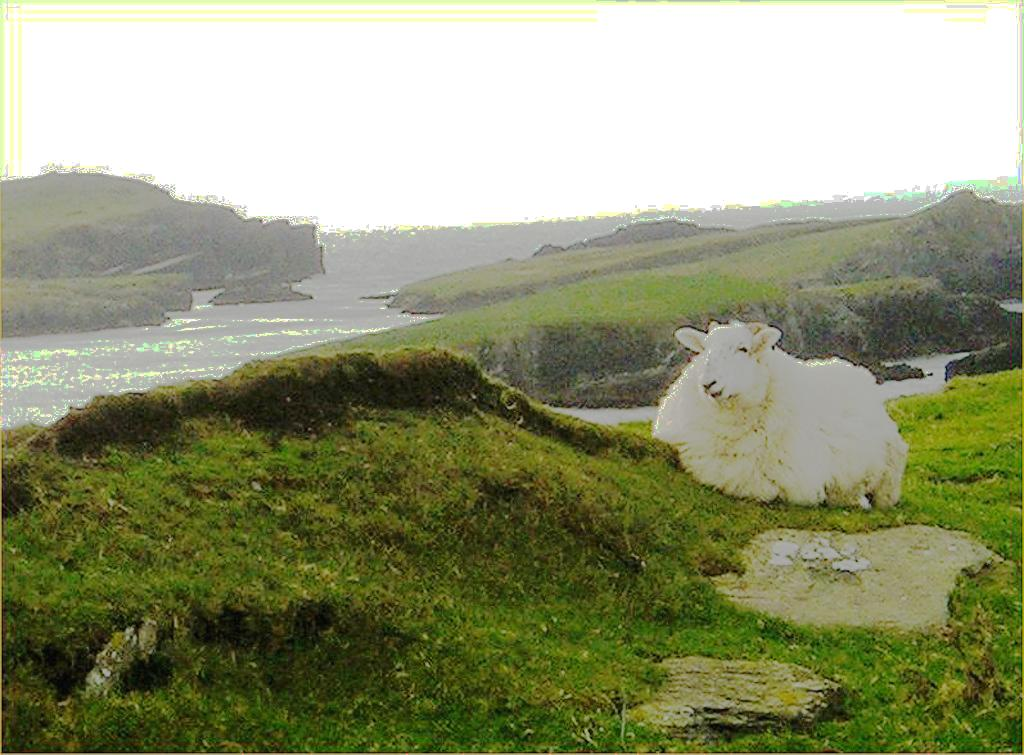Sheep: (648, 316, 906, 511)
